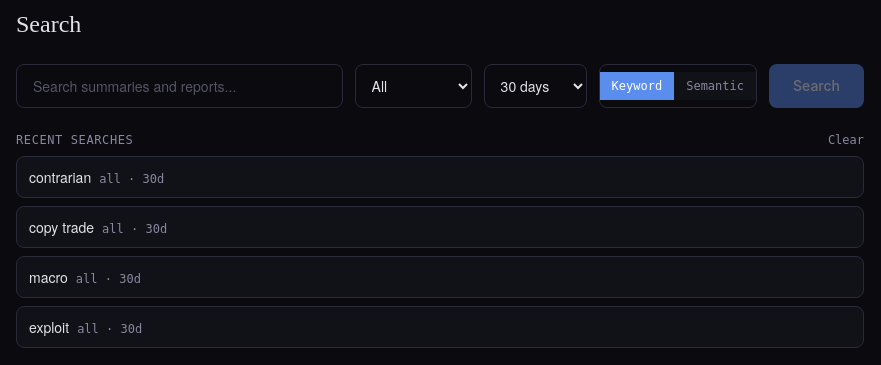
Test: Search › renders a market catalyst preview ahead of unusual activity and macro alerts on report hits when no active chain preview is present
The width and height of the screenshot is (881, 365).
Step 1. Type "cpi" into the field with placeholder "Search summaries and reports..." → (179, 86), box [16,64,343,108]
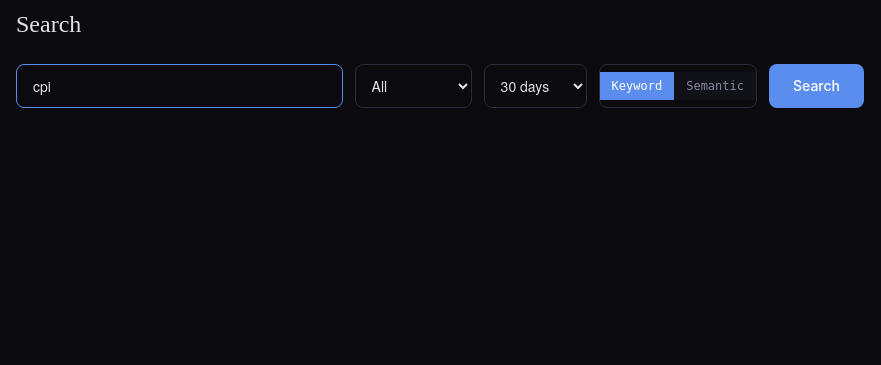
Step 2. Click the button "Search" → (816, 86), box [769,64,864,108]
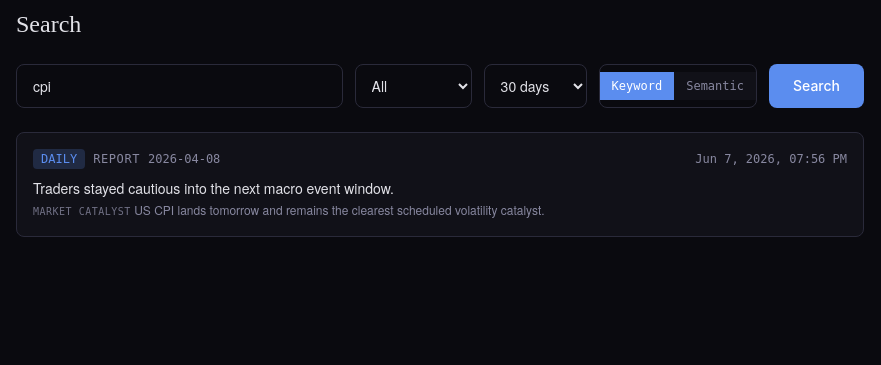
Expected: the text "Market Catalyst" is shown, [33,206,131,217]
Expected: the text "US CPI lands tomorrow and remains the clearest scheduled volatility catalyst." is shown, [134,201,545,218]
